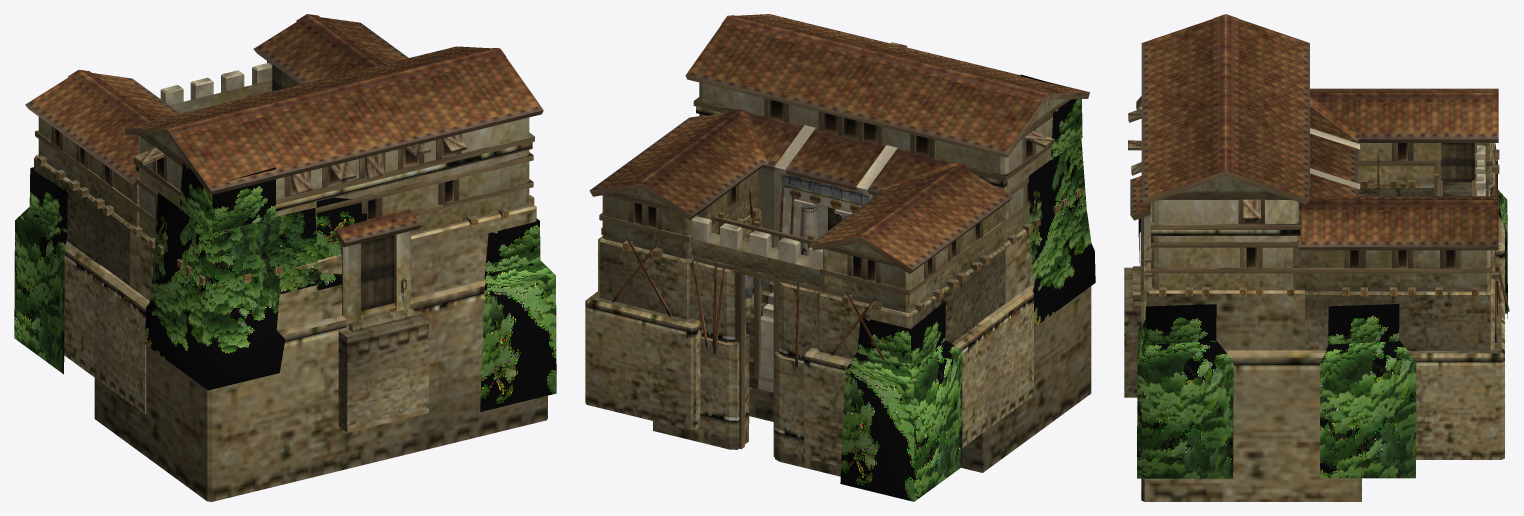
The model's file is spart_barracks.glb.
3 views of the same model, side by side, from view 1: azimuth 30°, elevation 25°; view 2: azimuth 150°, elevation 25°; view 3: azimuth 270°, elevation 25° (orthographic). The views are drawn at different scales.
Parts seen in each view (by area): view 1: spart_barracks_part0, spart_barracks_part1; view 2: spart_barracks_part0, spart_barracks_part1; view 3: spart_barracks_part0, spart_barracks_part1.
Part boxes in pixels (bbox=[...]): spart_barracks_part0: bbox=[21, 14, 547, 501]; spart_barracks_part1: bbox=[14, 163, 556, 411]; spart_barracks_part0: bbox=[585, 14, 1091, 476]; spart_barracks_part1: bbox=[840, 74, 1095, 501]; spart_barracks_part0: bbox=[1124, 14, 1509, 501]; spart_barracks_part1: bbox=[1137, 187, 1507, 478].
Size of the model in its own units: 4 by 3.6 by 3.82.
2 materials, 2 textured.
